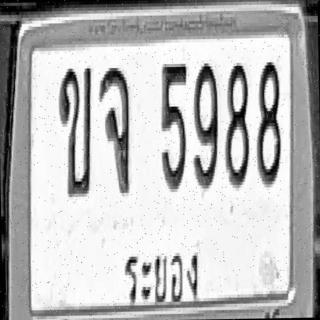A02: (58, 65, 93, 197)
A08: (99, 64, 131, 193)
N05: (159, 59, 188, 190)
N08: (255, 59, 281, 187), (223, 60, 249, 188)
N09: (192, 60, 219, 188)
